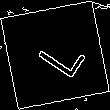L_NW: (25, 28, 85, 82)
